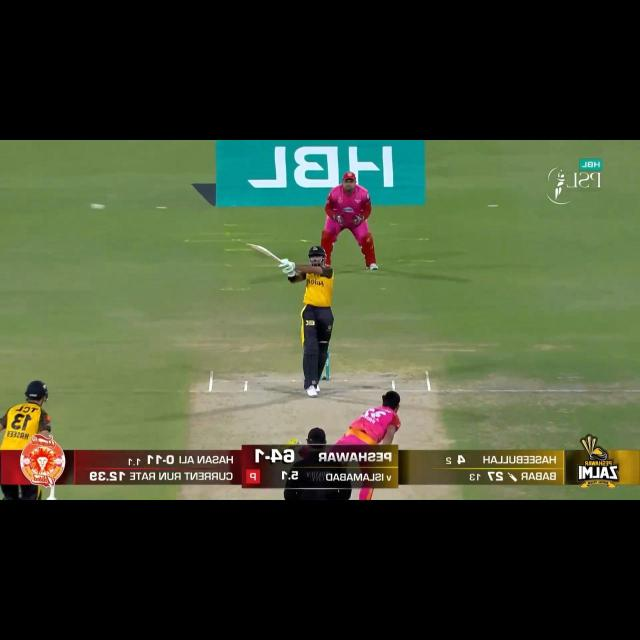bat: (244, 242, 282, 263)
toe: (243, 242, 256, 250)
